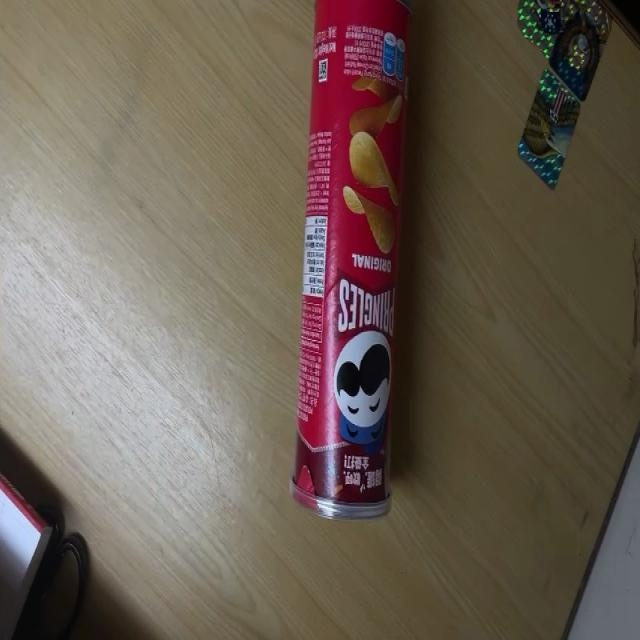Pringles: (291, 0, 411, 522)
